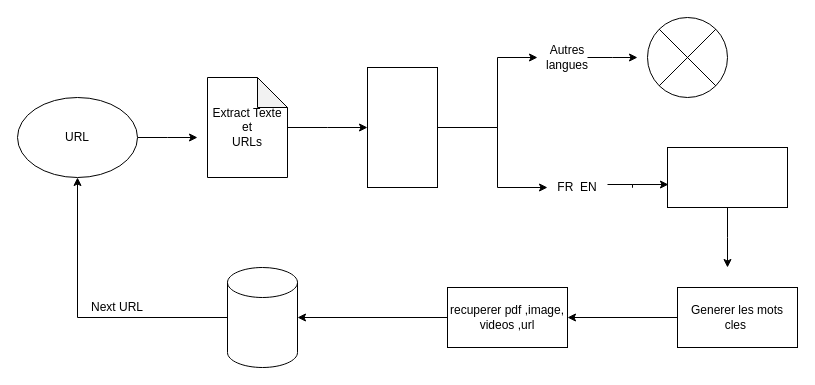
This 815x385 diagram has some shape labels left out. Each missing label, with the centre of its shape:
"Destecter la langue de la page" goes at point (402, 127).
"Stocker ces informations" goes at point (262, 317).
